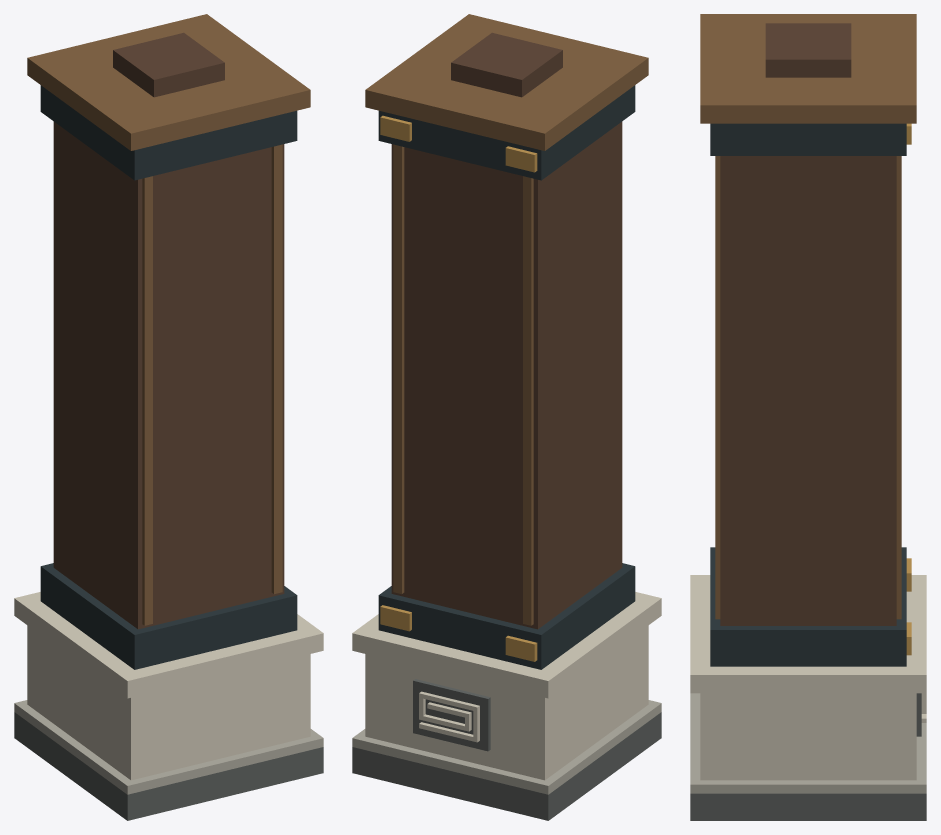
The picture shows the model from 3 angles, left to right: view 1: azimuth 30°, elevation 25°; view 2: azimuth 150°, elevation 25°; view 3: azimuth 270°, elevation 25°; orthographic projection. The views are drawn at different scales.
Visible parts, largest first — view 1: 旧楼层角木柱; view 2: 旧楼层角木柱; view 3: 旧楼层角木柱.
Boxes of the visible parts, bbox=[...] form: 旧楼层角木柱: bbox=[14, 14, 323, 820]; 旧楼层角木柱: bbox=[352, 14, 661, 820]; 旧楼层角木柱: bbox=[690, 14, 926, 820].
Size of the model in its own units: 0.94 by 3.2 by 0.94.
7 materials, 7 textured.
